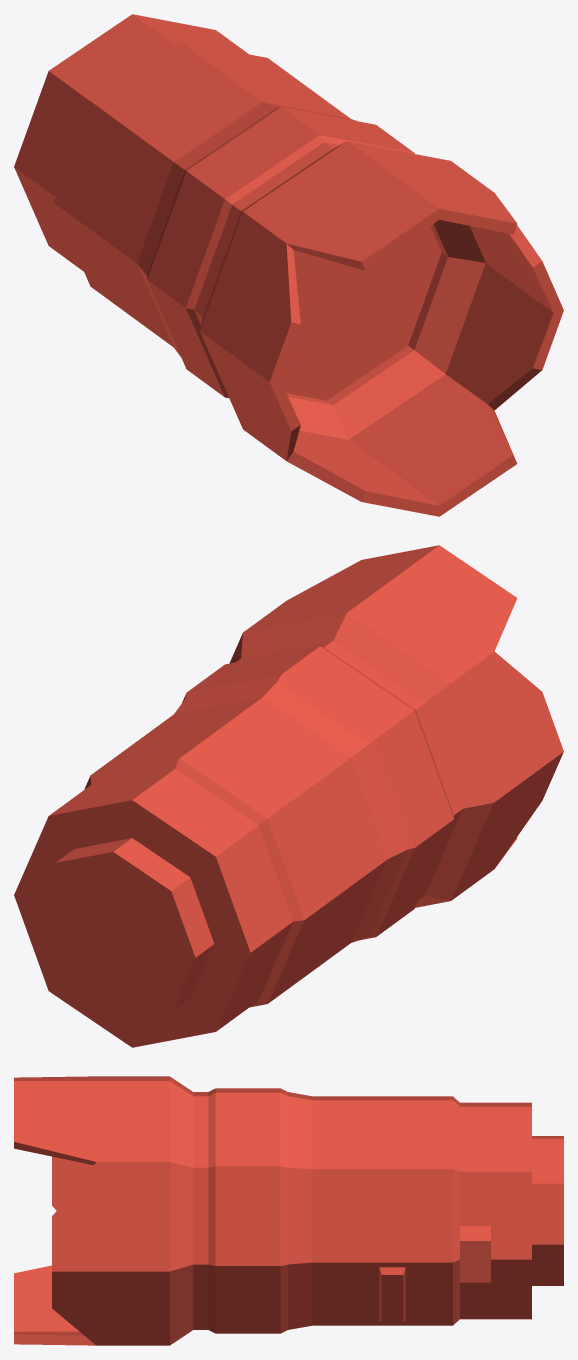
Rendered from SM_Camera_Dslr_Objective_Big.fbx.
3 renders of one model, top to bottom at view 1: azimuth 30°, elevation 25°; view 2: azimuth 150°, elevation 25°; view 3: azimuth 270°, elevation 25°, orthographic. The views are drawn at different scales.
Parts seen in each view (by area): view 1: SM_Camera_Dslr_Objective_Big; view 2: SM_Camera_Dslr_Objective_Big; view 3: SM_Camera_Dslr_Objective_Big.
Boxes of the visible parts, <box> form: SM_Camera_Dslr_Objective_Big: <box>14,14,563,516</box>; SM_Camera_Dslr_Objective_Big: <box>14,545,563,1047</box>; SM_Camera_Dslr_Objective_Big: <box>14,1076,563,1345</box>.
Size of the model in its own units: 18.57 by 9.68 by 9.68.
